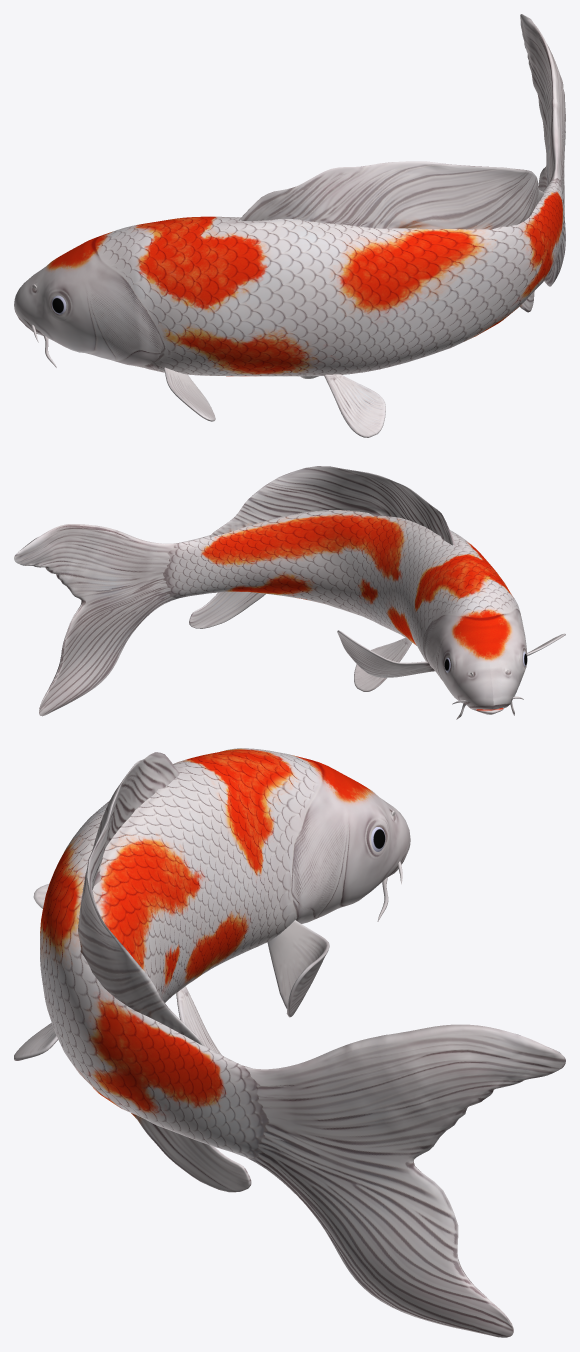
The model's file is fish_02.glb.
3 views of the same model, one above another, from view 1: azimuth 30°, elevation 25°; view 2: azimuth 150°, elevation 25°; view 3: azimuth 270°, elevation 25° (orthographic). The views are drawn at different scales.
Visible parts, largest first — view 1: node_id39_0; view 2: node_id39_0; view 3: node_id39_0.
Boxes of the visible parts, box(x1,y1,x2,y2) form: node_id39_0: box(14, 14, 565, 437); node_id39_0: box(14, 466, 565, 719); node_id39_0: box(14, 748, 565, 1337).
Bounding box in the file's own units: 0.8877 × 0.4103 × 0.5685.
Materials: 1 (1 with a texture image).
